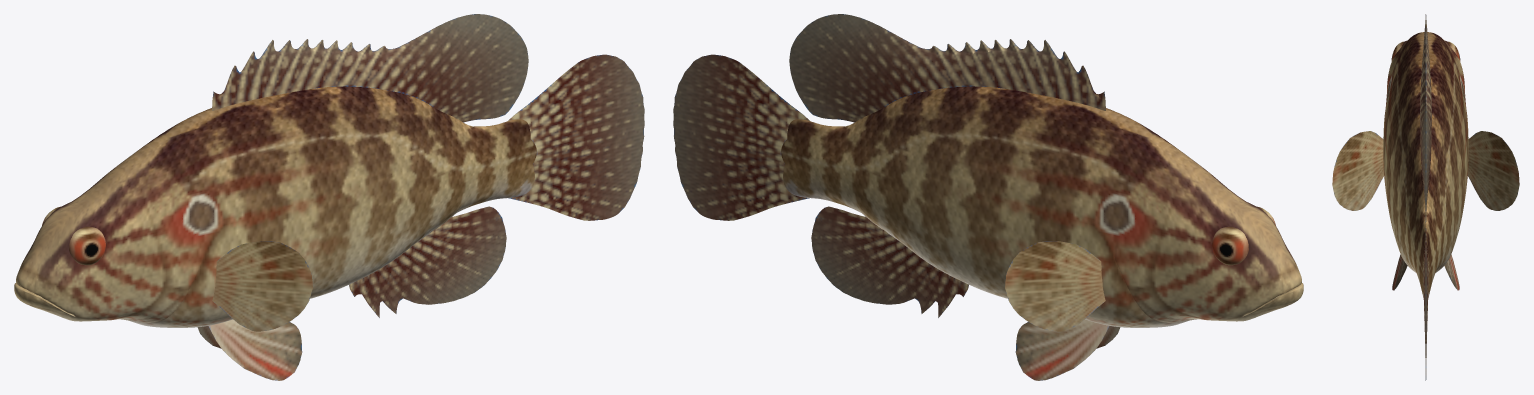
Rendered from 花斑鱼.obj.
The picture shows the model from 3 angles, left to right: view 1: azimuth 30°, elevation 25°; view 2: azimuth 150°, elevation 25°; view 3: azimuth 270°, elevation 25°; orthographic projection. The views are drawn at different scales.
Visible parts, largest first — view 1: ???.2; view 2: ???.2; view 3: ???.2.
Part boxes in pixels (box(x1,y1,x2,y2)): ???.2: box(14, 14, 644, 380); ???.2: box(673, 14, 1303, 380); ???.2: box(1332, 14, 1519, 380).
Bounding box in the file's own units: 120 × 59.03 × 36.17.
